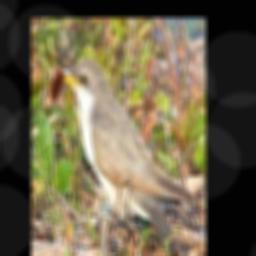Cuckoo: (61, 59, 204, 256)
